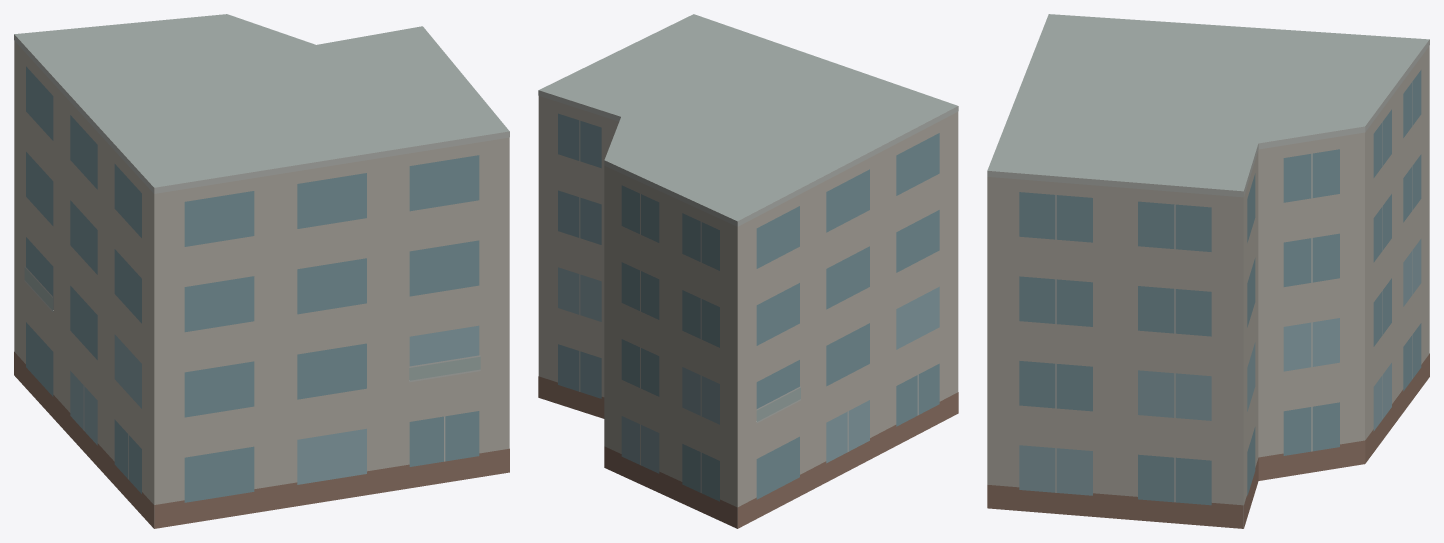
Rendered from survey-upis-32474640.glb.
The picture shows the model from 3 angles, left to right: view 1: azimuth 30°, elevation 25°; view 2: azimuth 150°, elevation 25°; view 3: azimuth 270°, elevation 25°; orthographic projection. The views are drawn at different scales.
Visible parts, largest first — view 1: survey-upis-32474640.tmp; view 2: survey-upis-32474640.tmp; view 3: survey-upis-32474640.tmp.
Boxes of the visible parts, x1,y1,x2,y2 form: survey-upis-32474640.tmp: (14, 14, 509, 528); survey-upis-32474640.tmp: (538, 14, 958, 528); survey-upis-32474640.tmp: (987, 14, 1429, 528).
Size of the model in its own units: 15.35 by 13.62 by 16.19.
